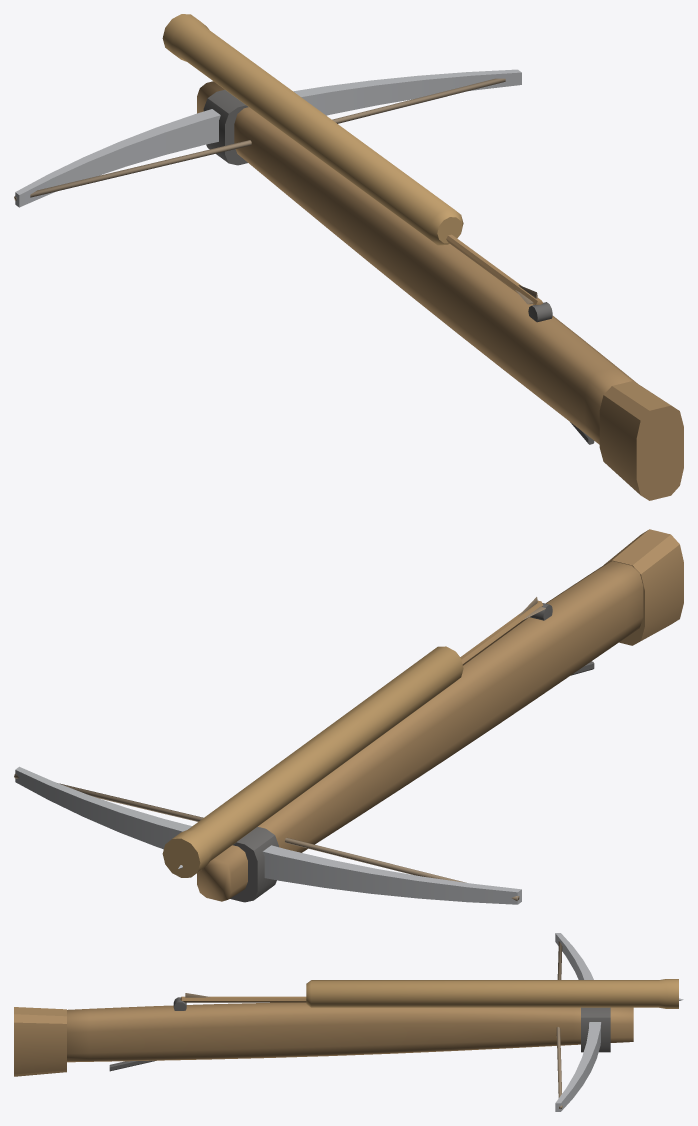
File: underwater-heavy-crossbow.glb
The picture shows the model from 3 angles, top to bottom: view 1: azimuth 30°, elevation 25°; view 2: azimuth 150°, elevation 25°; view 3: azimuth 270°, elevation 25°; orthographic projection. The views are drawn at different scales.
Parts seen in each view (by area): view 1: underwater-heavy-crossbow; view 2: underwater-heavy-crossbow; view 3: underwater-heavy-crossbow.
Boxes of the visible parts, x1,y1,x2,y2 form: underwater-heavy-crossbow: [14, 14, 683, 500]; underwater-heavy-crossbow: [14, 529, 683, 904]; underwater-heavy-crossbow: [14, 933, 683, 1111].
Bounding box in the file's own units: 1.6 × 0.4071 × 2.66.
